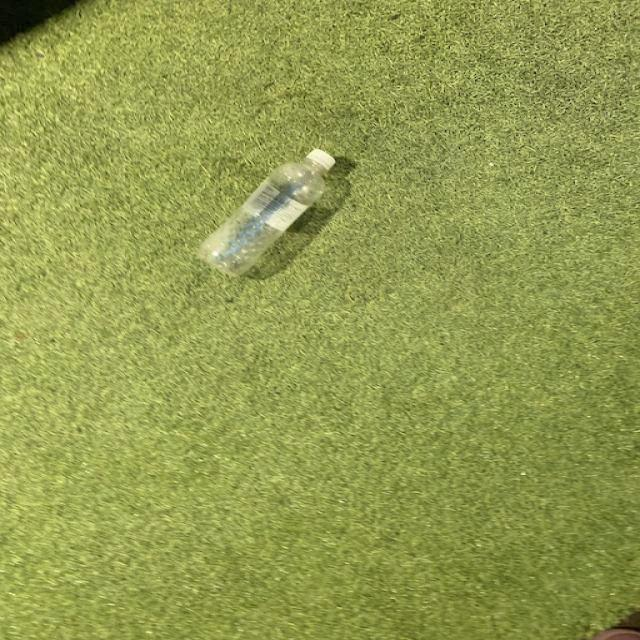bottle: (198, 149, 335, 277)
